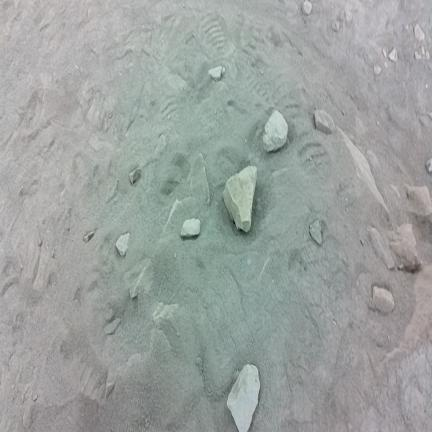Rock: (223, 166, 257, 232), (227, 364, 260, 431), (389, 224, 420, 270), (187, 153, 209, 204), (264, 111, 288, 152), (153, 303, 179, 340), (407, 186, 431, 216), (371, 286, 394, 314), (315, 110, 335, 134), (181, 219, 200, 237), (105, 370, 117, 397), (116, 233, 130, 256), (310, 220, 322, 244), (155, 135, 166, 156), (414, 23, 425, 42), (83, 229, 96, 243), (209, 66, 222, 80), (130, 168, 140, 184), (302, 0, 312, 14), (388, 48, 397, 62), (332, 19, 339, 31), (373, 65, 381, 75), (414, 50, 421, 60), (427, 158, 431, 172), (421, 46, 425, 55), (383, 48, 386, 57), (222, 67, 225, 74), (426, 52, 429, 59)
